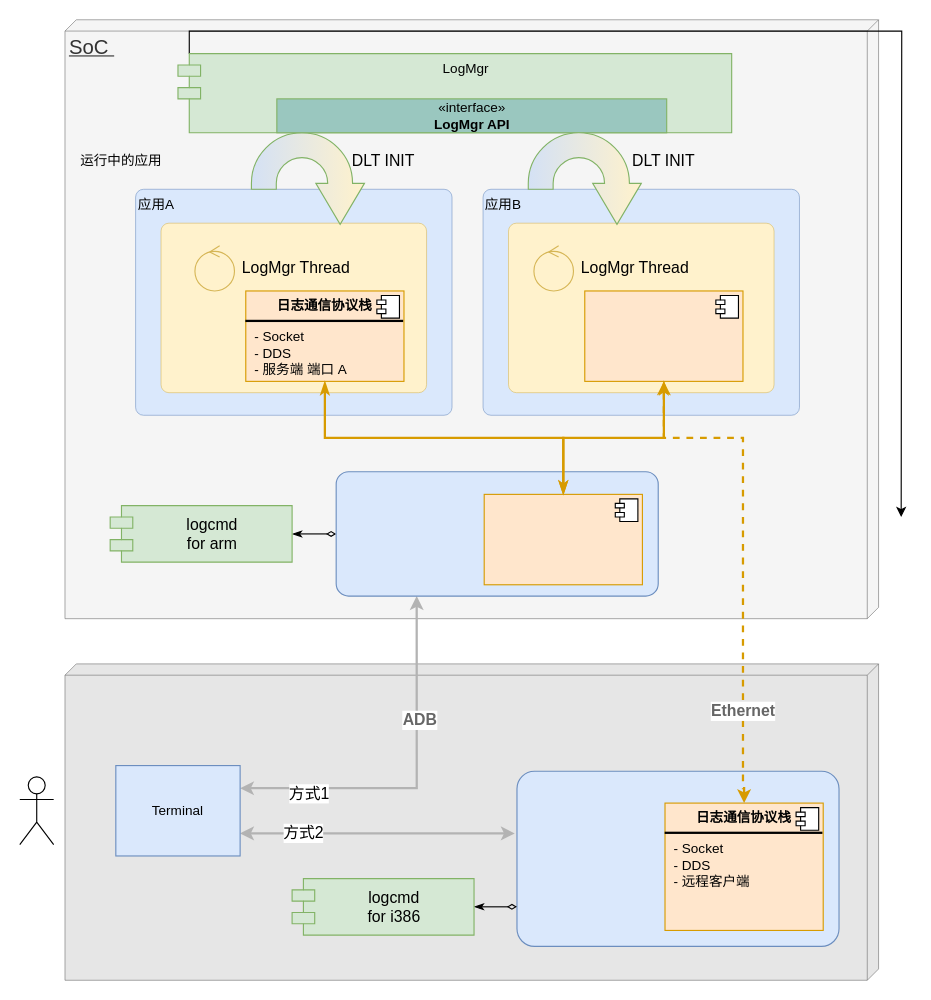
Image size: 931x1000. Some labels were removed from this diagram. The shapes that lost their labels are listed below. From the top down, each one's box as (x1, y1, x2, y2) in pixels, then its label:
(584, 290, 743, 381): 日志通信协议栈 - Socket - DDS - 服务端 端口 B
(335, 471, 658, 596): logcmd (local client)
(483, 493, 642, 585): 日志通信协议栈 - Socket - DDS - 本地客户端
(64, 663, 878, 980): 外设环境
(516, 770, 839, 946): logcmd (remote client)
